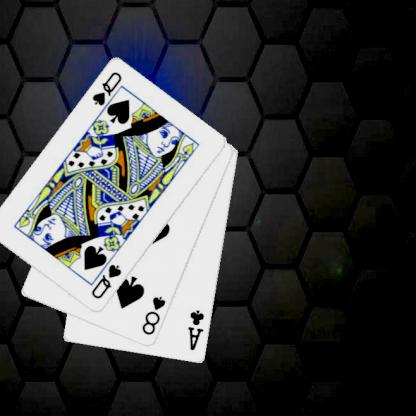8S: (139, 293, 168, 337)
AC: (185, 307, 206, 352)
QS: (88, 262, 124, 301), (89, 69, 123, 108)
